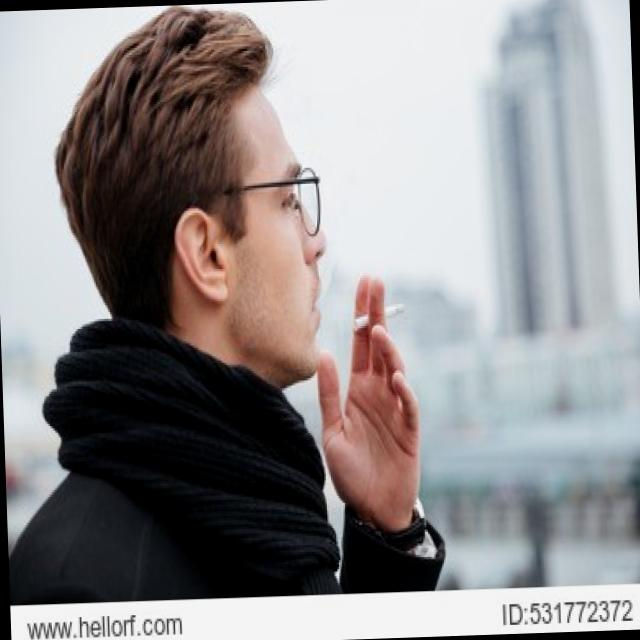cigarette: (352, 302, 406, 336)
